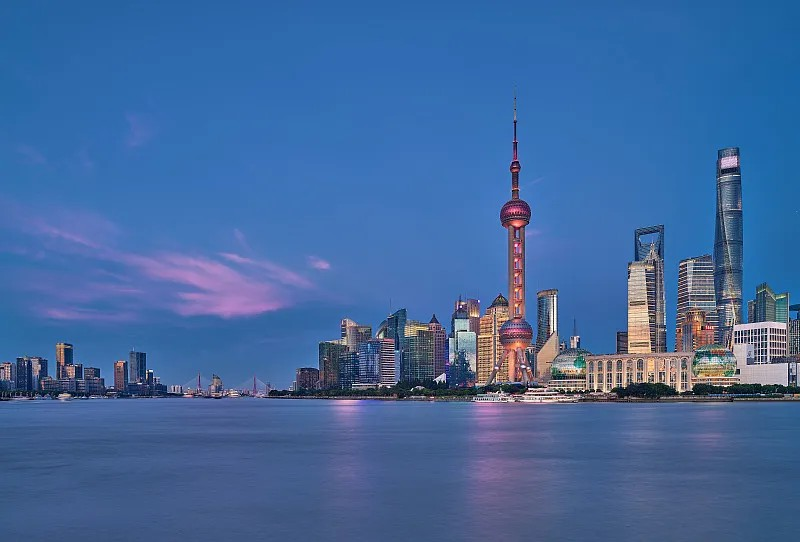Oriental: (485, 92, 533, 382)
